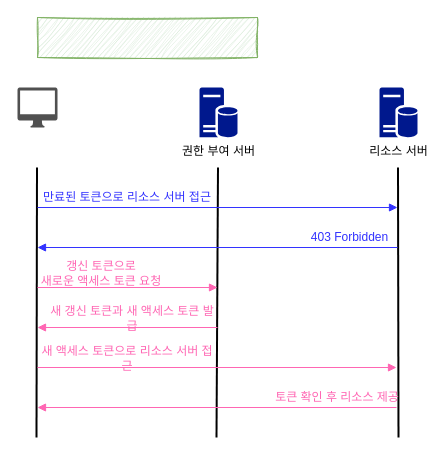
Some shapes in this 445 by 457 pixel diagram are drawn without their labels. The centre of each missing label's shape, as x and y in pixels:
"Client" goes at (x=37, y=107).
"화살표는 HTTP 의 요청과 응답이 아니라 OAuth 2 구성 요소 간에 교환되는 메시지임" goes at (x=147, y=37).
